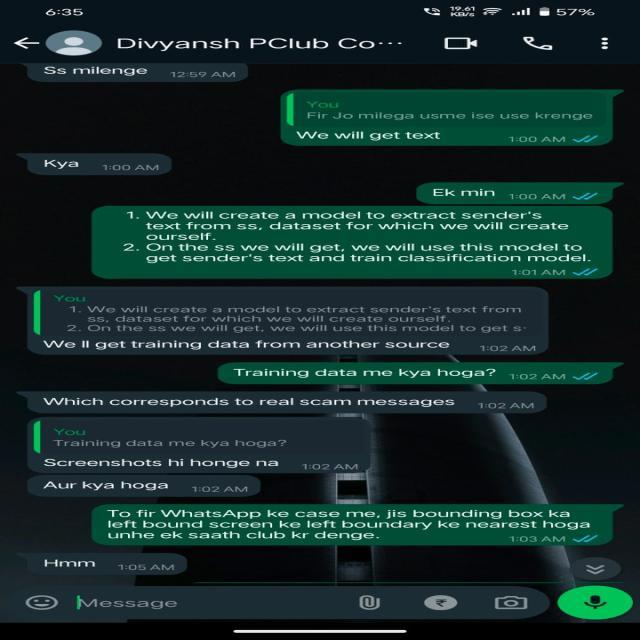scam: (38, 390, 474, 414), (34, 333, 480, 355), (36, 454, 300, 472), (38, 478, 188, 498), (36, 62, 160, 84), (26, 552, 114, 576), (32, 155, 94, 176)
